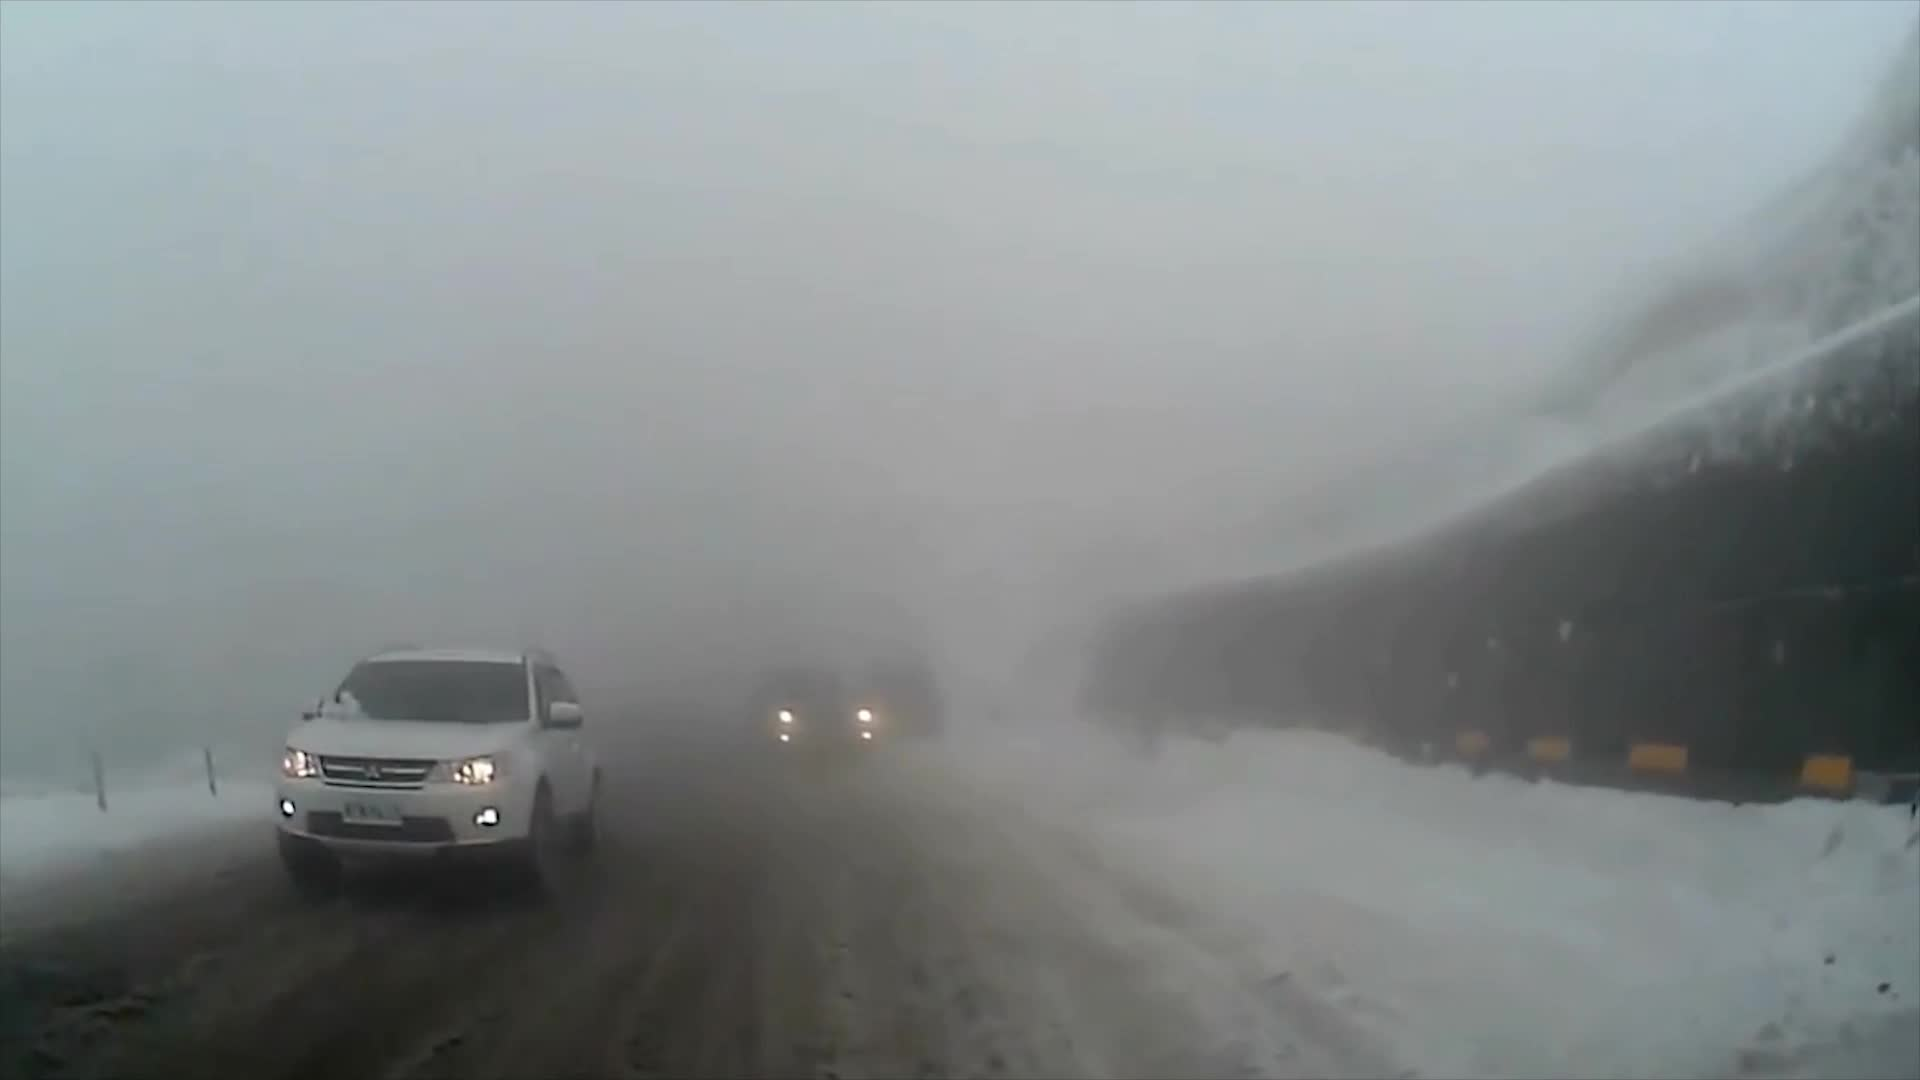vehicle: (272, 642, 611, 913), (738, 674, 881, 779)
